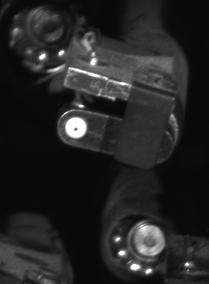fiber: (61, 114, 95, 143)
